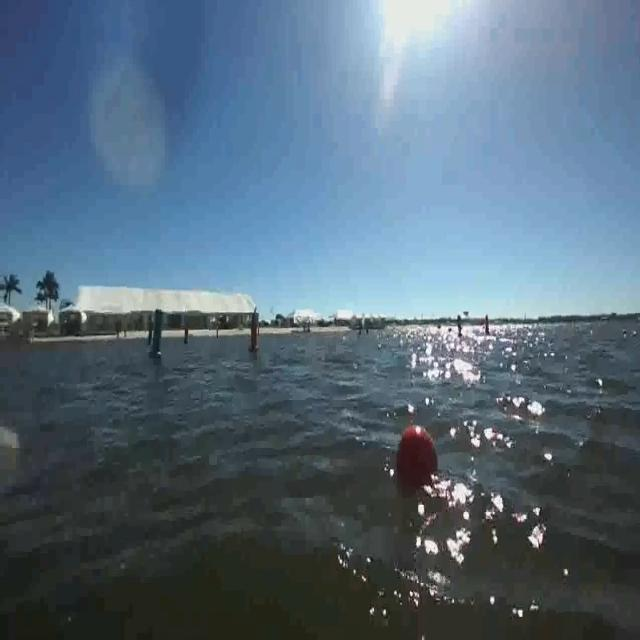green-column-buoy: (148, 308, 169, 361)
red-buoy: (394, 422, 439, 494)
red-column-buoy: (248, 316, 262, 355), (182, 324, 190, 344)
